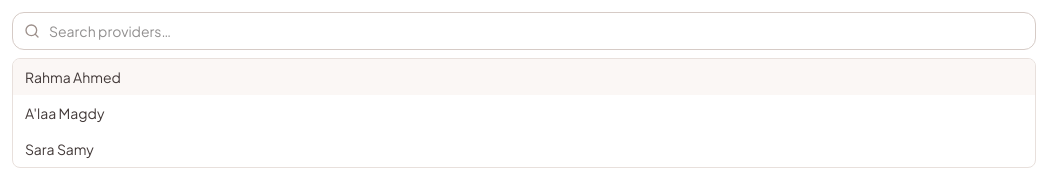
Test: EntityPicker — search filtering › filters the list case-insensitively by label as you type
This screenshot has width=1048, height=185.
Type "RAHMA" into the dropdown at [524, 31], box left=12, top=12, right=1036, bottom=50
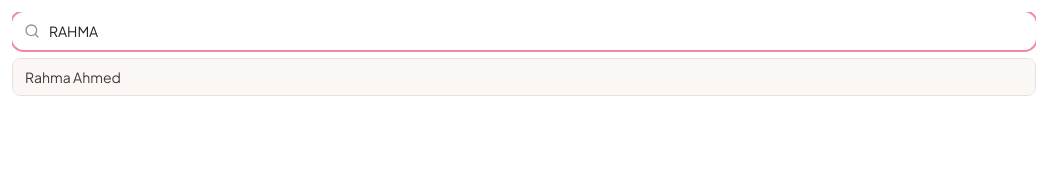
expect the option "Rahma Ahmed" is shown: met, box left=13, top=59, right=1035, bottom=95
expect the option "A'laa Magdy" is gone: met
expect the option "Sara Samy" is gone: met
